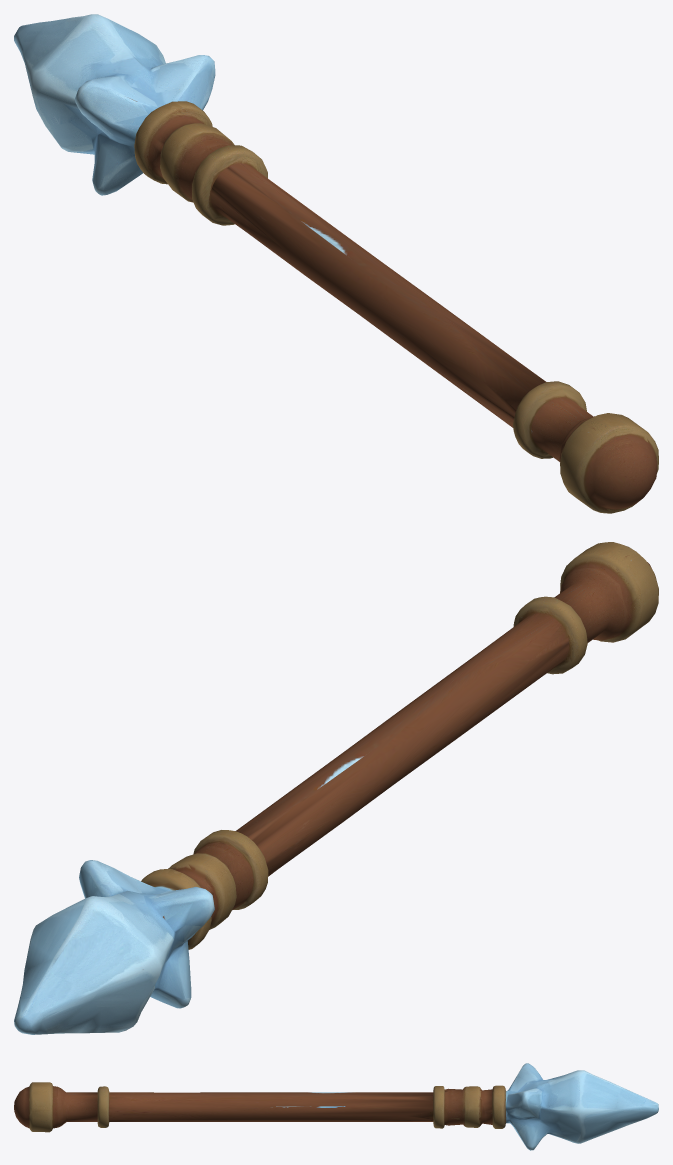
File: MizuStaff.glb
3 renders of one model, top to bottom at view 1: azimuth 30°, elevation 25°; view 2: azimuth 150°, elevation 25°; view 3: azimuth 270°, elevation 25°, orthographic. The views are drawn at different scales.
Visible parts, largest first — view 1: MizuStaff; view 2: MizuStaff; view 3: MizuStaff.
Part boxes in pixels (x1,y1,x2,y2): MizuStaff: [14, 14, 658, 513]; MizuStaff: [14, 542, 658, 1034]; MizuStaff: [14, 1063, 658, 1150].
Bounding box in the file's own units: 0.5325 × 0.5052 × 4.2.
1 material, 1 textured.
